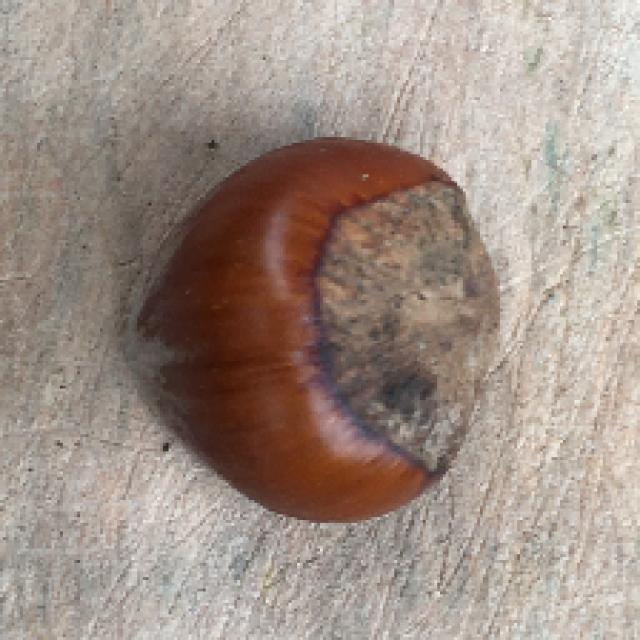damagedHazelnut: (119, 135, 514, 540)
